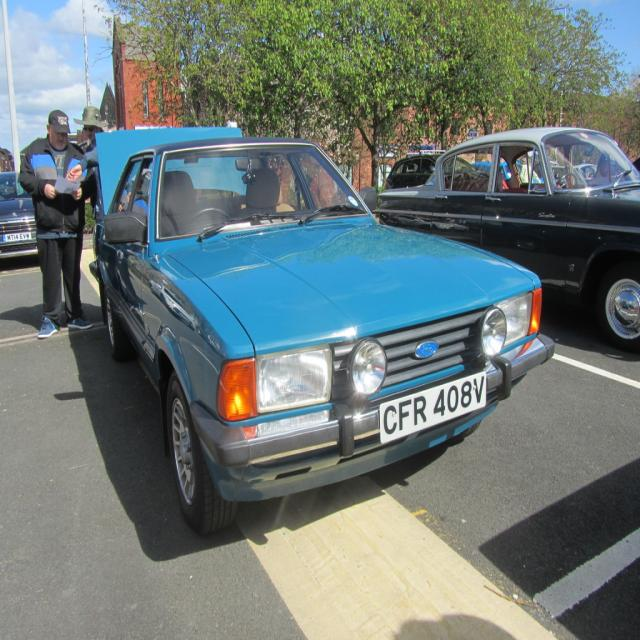car: (88, 126, 554, 535)
